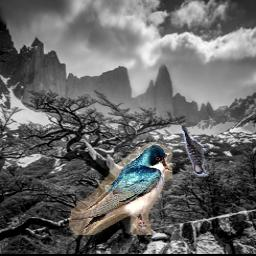Swallow: (70, 143, 173, 236)
Woodpecker: (180, 123, 210, 177)
